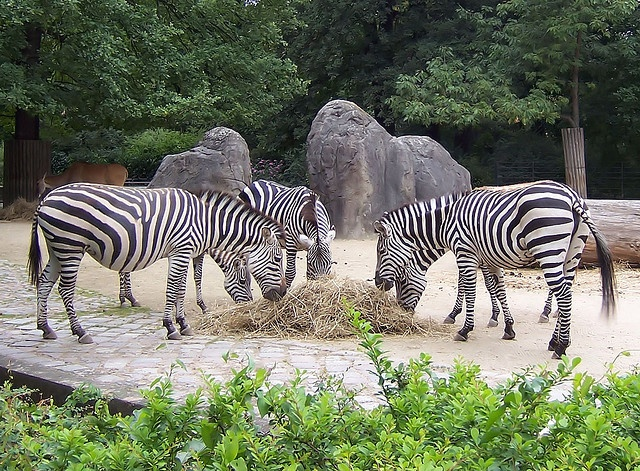zebra: (370, 178, 620, 358), (28, 181, 287, 345), (236, 178, 336, 285)
